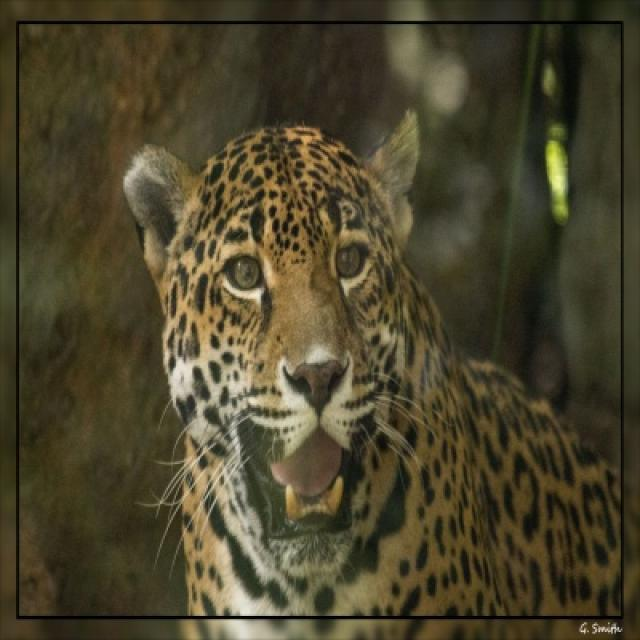Jaguar: (120, 114, 624, 627)
